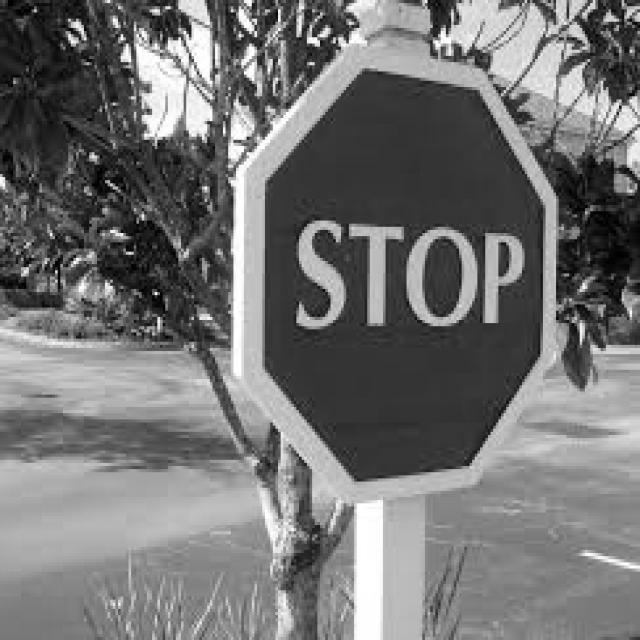Stop-sign: (223, 28, 566, 540)
